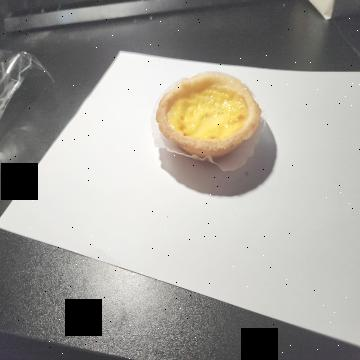EggTart: (156, 71, 262, 157)
